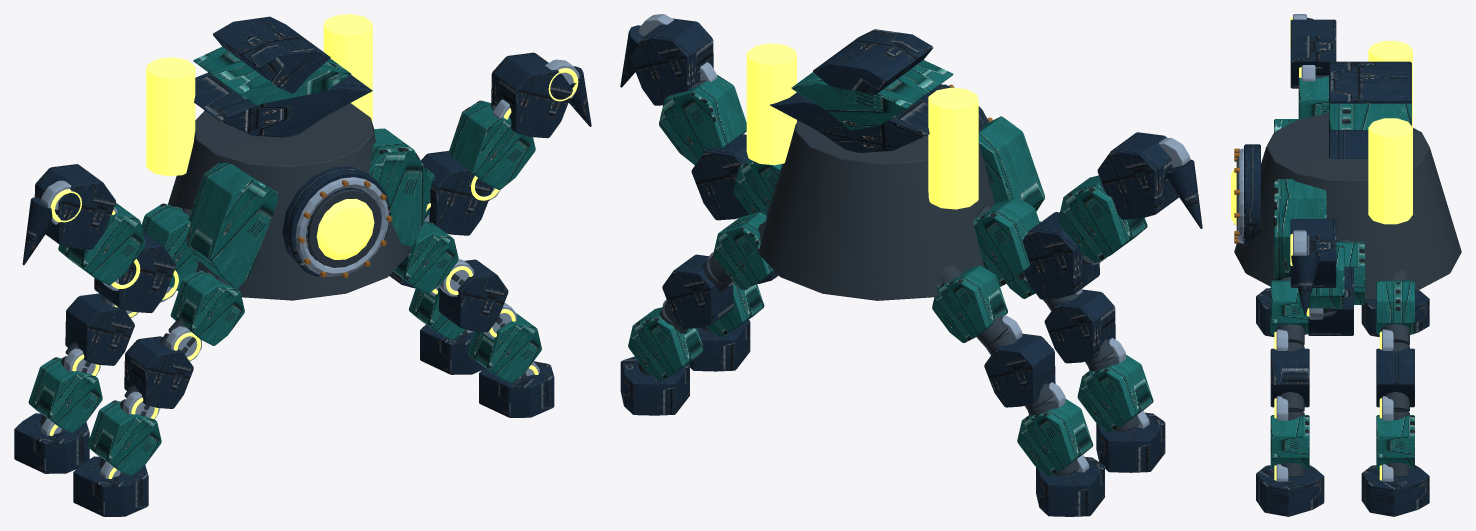
The model's file is volt_kraken.glb.
3 views of the same model, side by side, from view 1: azimuth 30°, elevation 25°; view 2: azimuth 150°, elevation 25°; view 3: azimuth 270°, elevation 25° (orthographic). The views are drawn at different scales.
Visible parts, largest first — view 1: Submersible mantle, Pressure crown.001, Overlapping segment carapace.005, Machined reactor collar, Energy nucleus, Overlapping segment carapace.004, Overlapping segment carapace.011, Overlapping segment carapace.001, Overlapping segment carapace.015, Overlapping segment carapace.014, Overlapping segment carapace, Overlapping segment carapace.010 (+7 smaller); view 2: Submersible mantle, Overlapping segment carapace.005, Overlapping segment carapace.004, Energy nucleus, Overlapping segment carapace.001, Machined reactor collar, Pressure crown.001, Overlapping segment carapace.011, Overlapping segment carapace.015, Overlapping segment carapace, Overlapping segment carapace.014, Overlapping segment carapace.010 (+4 smaller); view 3: Submersible mantle, Overlapping segment carapace.015, Overlapping segment carapace.014, Machined reactor collar, Energy nucleus, Pressure crown.001, Overlapping segment carapace.011, Articulated hydraulic link.014, Overlapping segment carapace.001, Overlapping segment carapace.010, Overlapping segment carapace.005, Segment rotating hub.014 (+5 smaller).
Part boxes in pixels (x1,y1,x2,y2): Submersible mantle: (168, 103, 408, 300); Pressure crown.001: (185, 46, 432, 288); Overlapping segment carapace.005: (14, 293, 193, 516); Machined reactor collar: (194, 16, 390, 276); Energy nucleus: (146, 14, 374, 259); Overlapping segment carapace.004: (28, 270, 244, 475); Overlapping segment carapace.011: (421, 52, 591, 235); Overlapping segment carapace.001: (22, 164, 176, 312); Overlapping segment carapace.015: (389, 259, 554, 417); Overlapping segment carapace.014: (393, 221, 541, 382); Overlapping segment carapace: (58, 203, 199, 291); Overlapping segment carapace.010: (424, 100, 535, 219); Submersible mantle: (758, 119, 994, 300); Overlapping segment carapace.005: (984, 289, 1165, 516); Overlapping segment carapace.004: (932, 221, 1153, 475); Energy nucleus: (746, 43, 978, 209); Overlapping segment carapace.001: (1022, 132, 1202, 299); Machined reactor collar: (770, 29, 988, 152); Pressure crown.001: (791, 60, 1044, 211); Overlapping segment carapace.011: (620, 18, 749, 220); Overlapping segment carapace.015: (620, 254, 778, 415); Overlapping segment carapace: (973, 175, 1147, 286); Overlapping segment carapace.014: (628, 212, 774, 380); Overlapping segment carapace.010: (659, 75, 782, 214); Submersible mantle: (1234, 113, 1461, 299); Overlapping segment carapace.015: (1256, 348, 1429, 516); Overlapping segment carapace.014: (1270, 280, 1414, 468); Machined reactor collar: (1244, 61, 1411, 246); Energy nucleus: (1231, 41, 1412, 225); Pressure crown.001: (1274, 103, 1411, 280); Overlapping segment carapace.011: (1290, 219, 1353, 335); Articulated hydraulic link.014: (1275, 270, 1409, 477); Overlapping segment carapace.001: (1290, 17, 1336, 88); Overlapping segment carapace.010: (1298, 241, 1365, 308); Overlapping segment carapace.005: (1256, 288, 1429, 337); Segment rotating hub.014: (1276, 329, 1393, 481).
Bounding box in the file's own units: 4.68 × 3.03 × 1.84.
Materials: 6 (2 with a texture image).
